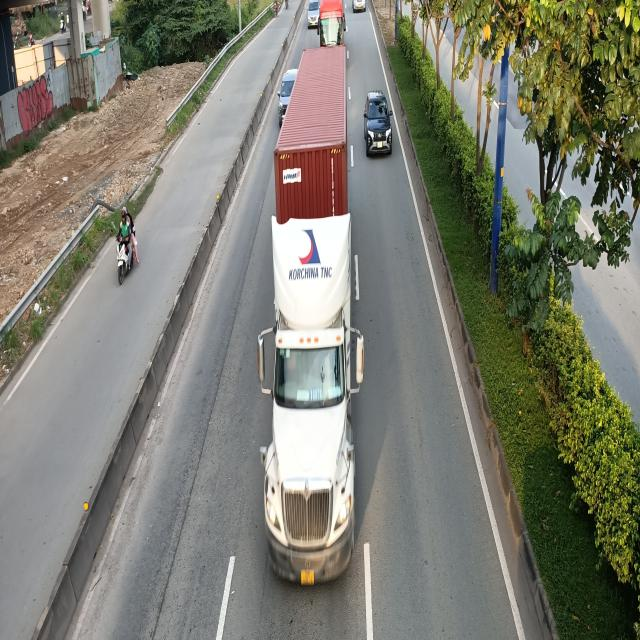car: (362, 90, 392, 155)
coach: (319, 1, 347, 49)
container: (256, 35, 360, 577)
